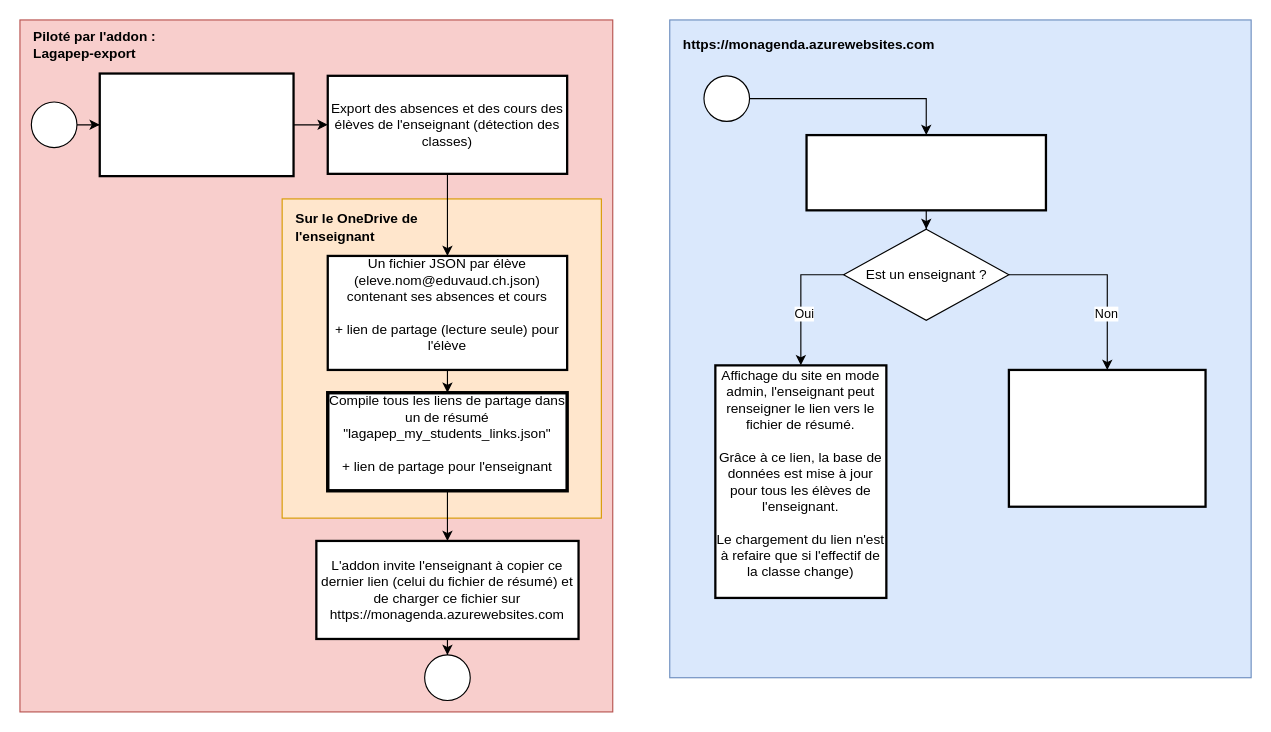
The diagram is 1271 pixels wide and 732 high, and some of its shapes have lost their labels. Here are the shapes that lost their labels. From the top down, the centre of each, then its label:
pixel 196 124: Addon "Lagapep to OneDrive Export". Démarrage de l'export
pixel 926 172: Connexion obligatoire avec login O365 (limitée au domaine eduvaud.ch)
pixel 1106 437: Affichage de son horaire annualisé, hebdomadaire et absences (UI/UX en cours)
